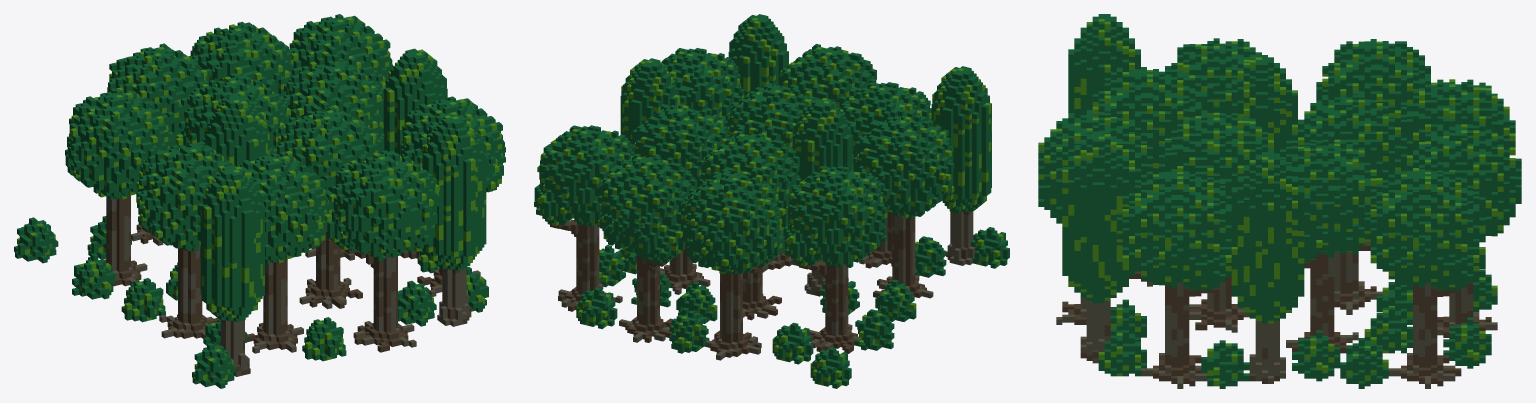
The model's file is trees_11_overtile.obj.
3 views of the same model, side by side, from view 1: azimuth 30°, elevation 25°; view 2: azimuth 150°, elevation 25°; view 3: azimuth 270°, elevation 25° (orthographic). The views are drawn at different scales.
Size of the model in its own units: 7.3 by 4 by 8.
1 material, 1 textured.
